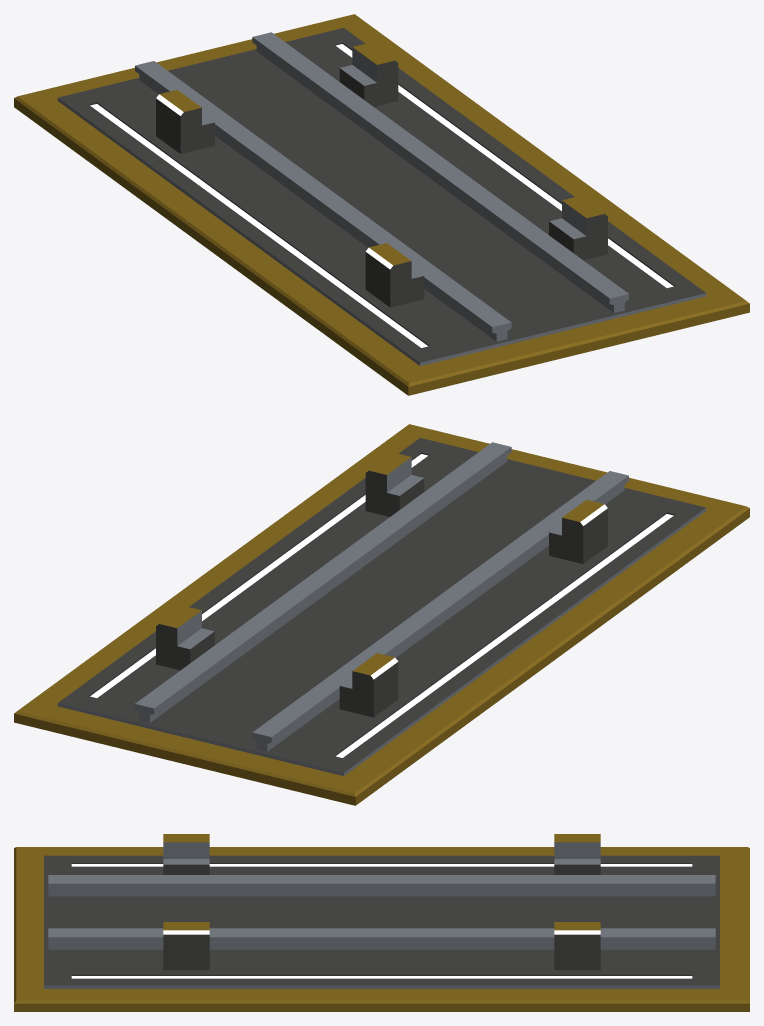
The model's file is launch_cradle.glb.
3 views of the same model, one above another, from view 1: azimuth 30°, elevation 25°; view 2: azimuth 150°, elevation 25°; view 3: azimuth 270°, elevation 25° (orthographic). The views are drawn at different scales.
Parts seen in each view (by area): view 1: launch_cradle; view 2: launch_cradle; view 3: launch_cradle.
Boxes of the visible parts, box(x1,y1,x2,y2) form: launch_cradle: box(14, 14, 749, 395); launch_cradle: box(14, 424, 749, 805); launch_cradle: box(14, 834, 749, 1011).
Size of the model in its own units: 3.2 by 0.5 by 6.4.
